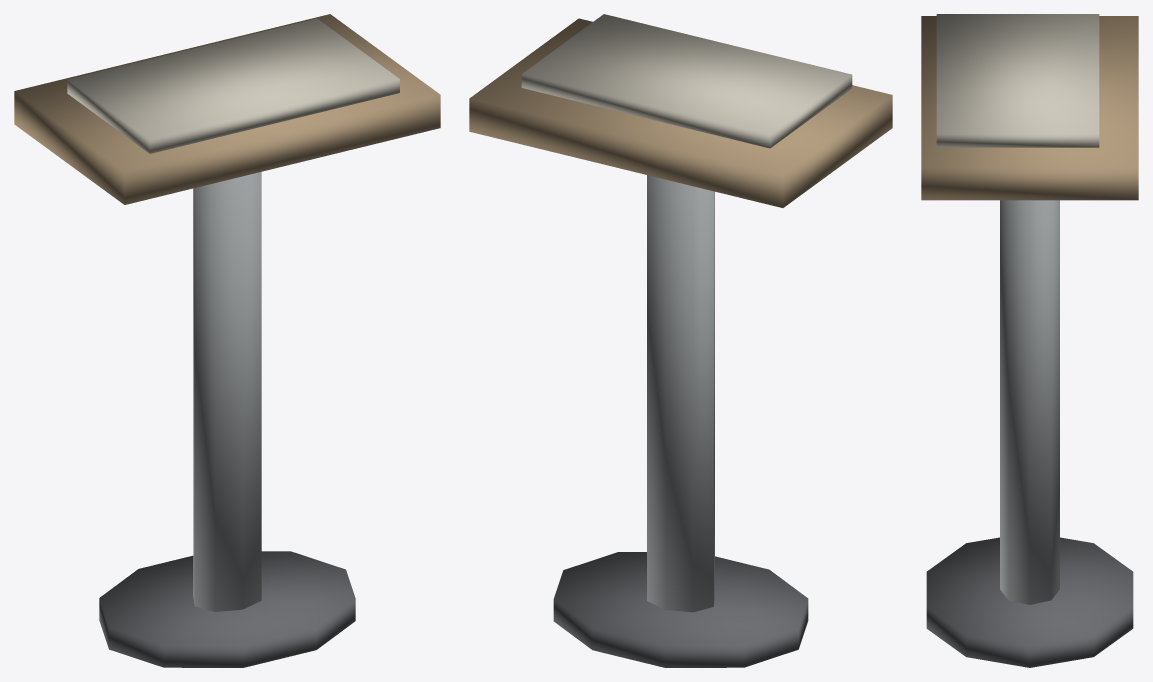
Rendered from memorial_guestbook_stand__wide.glb.
3 views of the same model, side by side, from view 1: azimuth 30°, elevation 25°; view 2: azimuth 150°, elevation 25°; view 3: azimuth 270°, elevation 25° (orthographic).
Parts seen in each view (by area): view 1: world; view 2: world; view 3: world.
Part boxes in pixels (x1,y1,x2,y2): world: [14, 14, 440, 667]; world: [469, 14, 892, 667]; world: [921, 14, 1138, 667].
Size of the model in its own units: 0.5952 by 0.9825 by 0.36.
